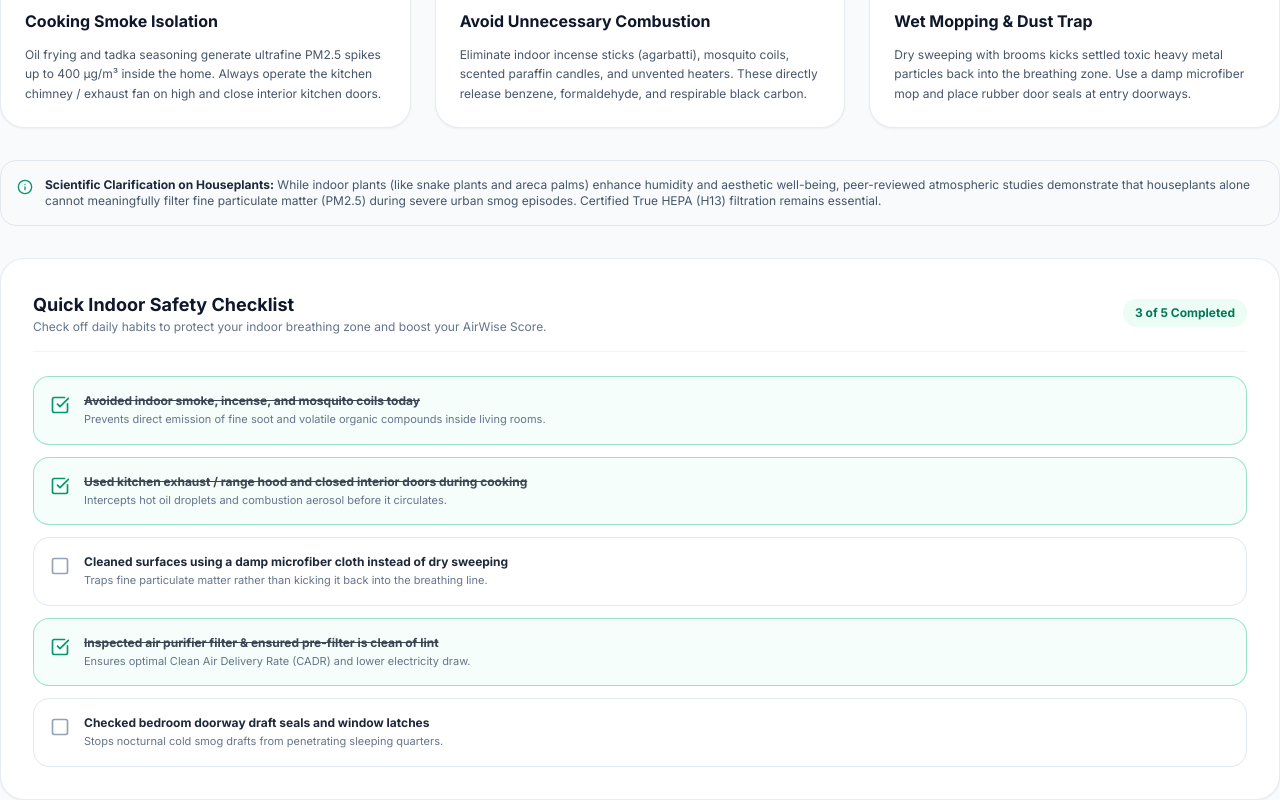
Test: AirWise AI Frontend Application Tests › toggles IndoorAirPage checklist aria-checked state and updates count
This screenshot has width=1280, height=800.
(page scrolled)
Click the 1st checkbox.
click(252, 400)  # box [33,376,1247,444]
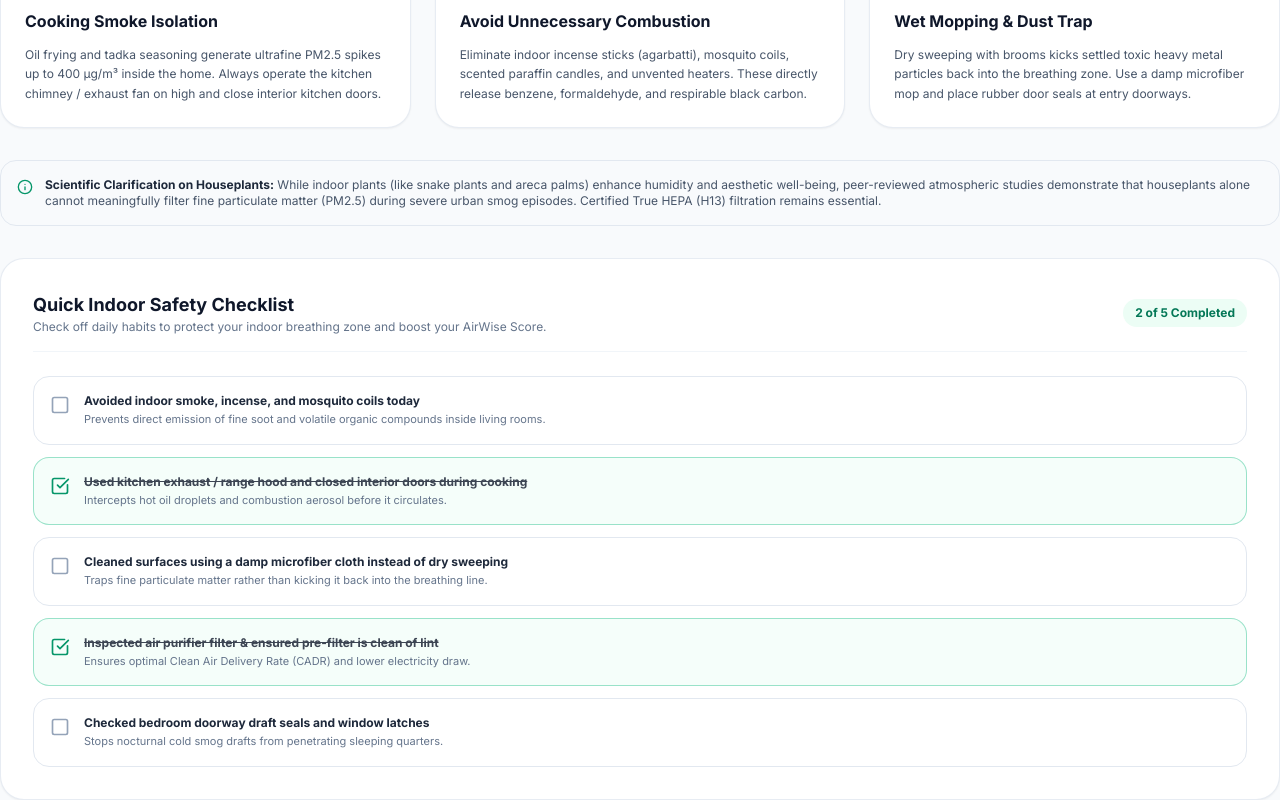
Expected: the 1st checkbox is not checked, [33,376,1247,444]
